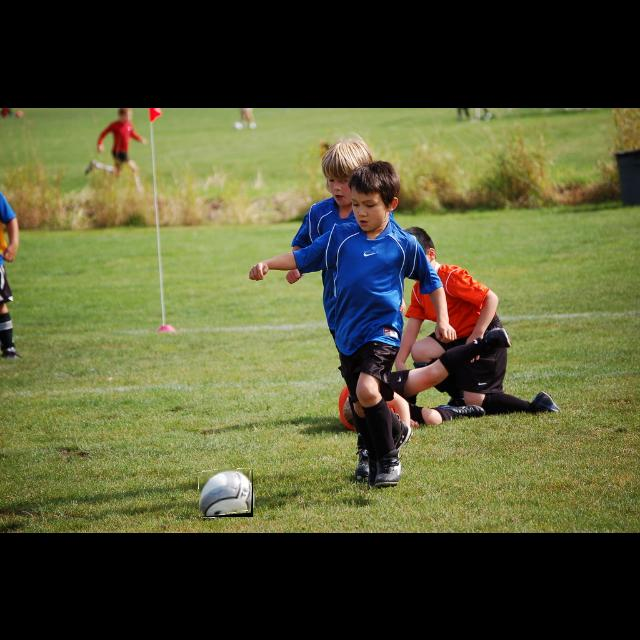Football: (199, 469, 253, 517)
